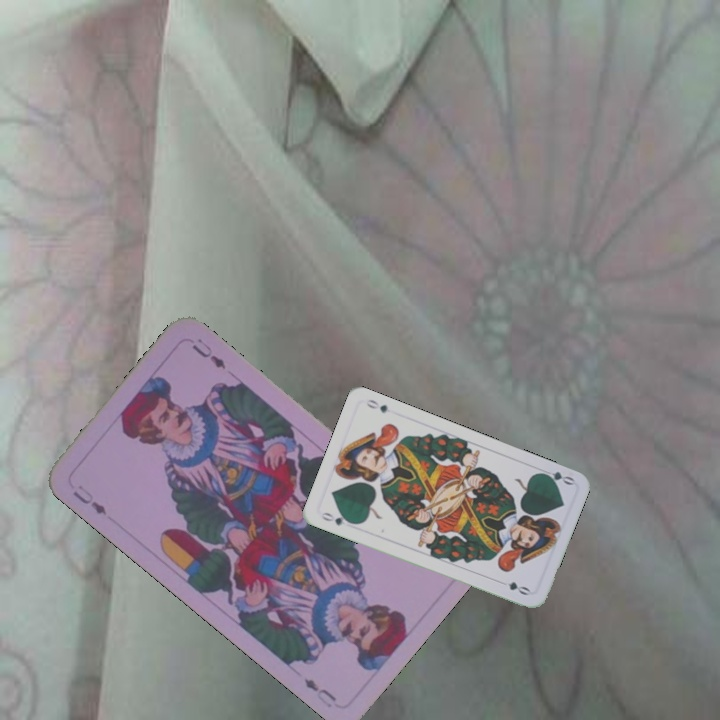EU: (68, 481, 110, 518)
GO: (535, 467, 576, 488), (317, 508, 357, 528)
